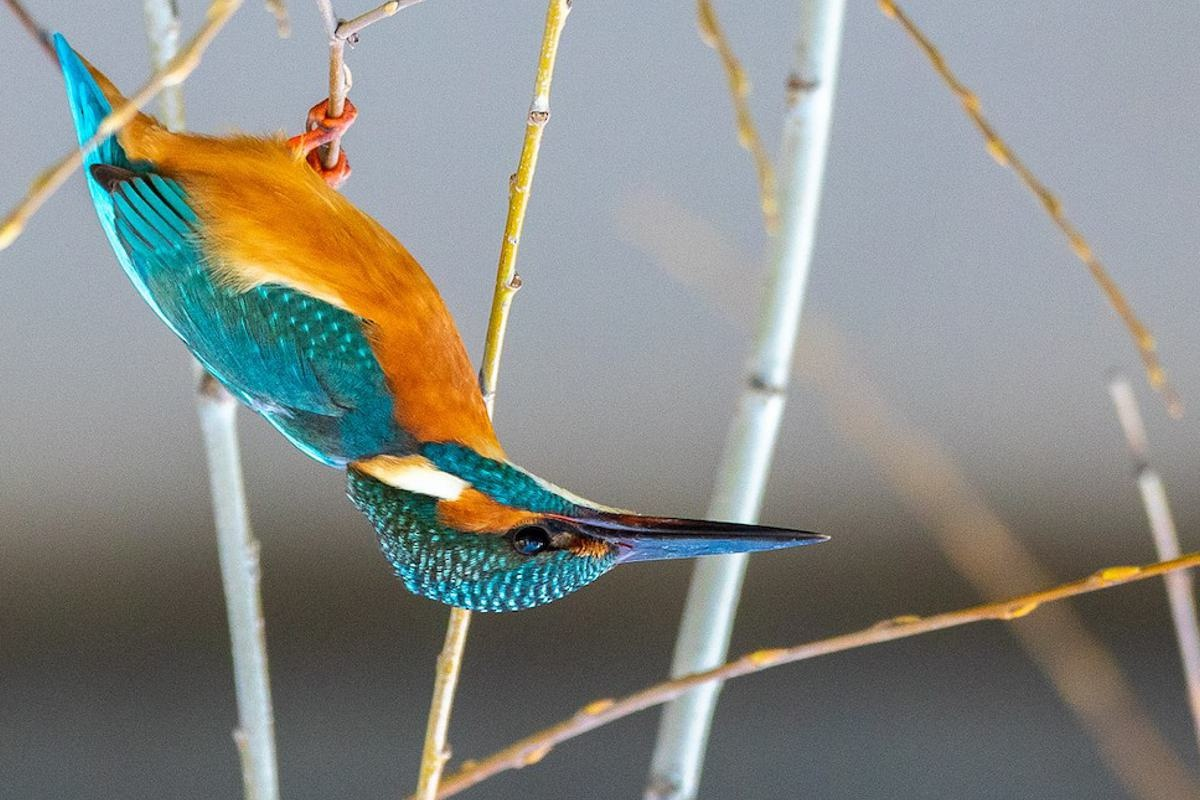kingfisher: (29, 55, 833, 625)
